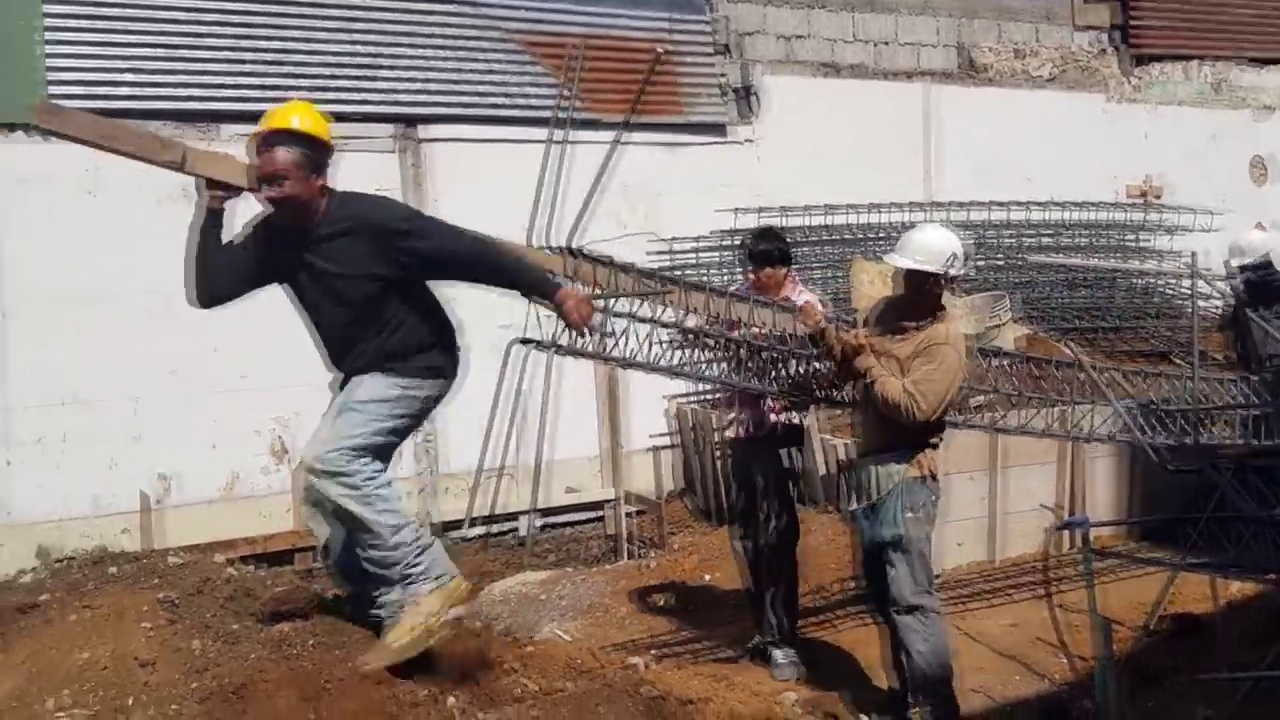helmet: (244, 94, 335, 152), (884, 222, 970, 282), (1227, 233, 1273, 269)
helmet-off: (743, 229, 801, 300)
helmet-on: (243, 91, 334, 223), (875, 220, 970, 327), (1226, 231, 1279, 284)
person: (177, 91, 590, 675), (834, 209, 990, 702), (707, 228, 818, 680), (1224, 229, 1279, 377)
